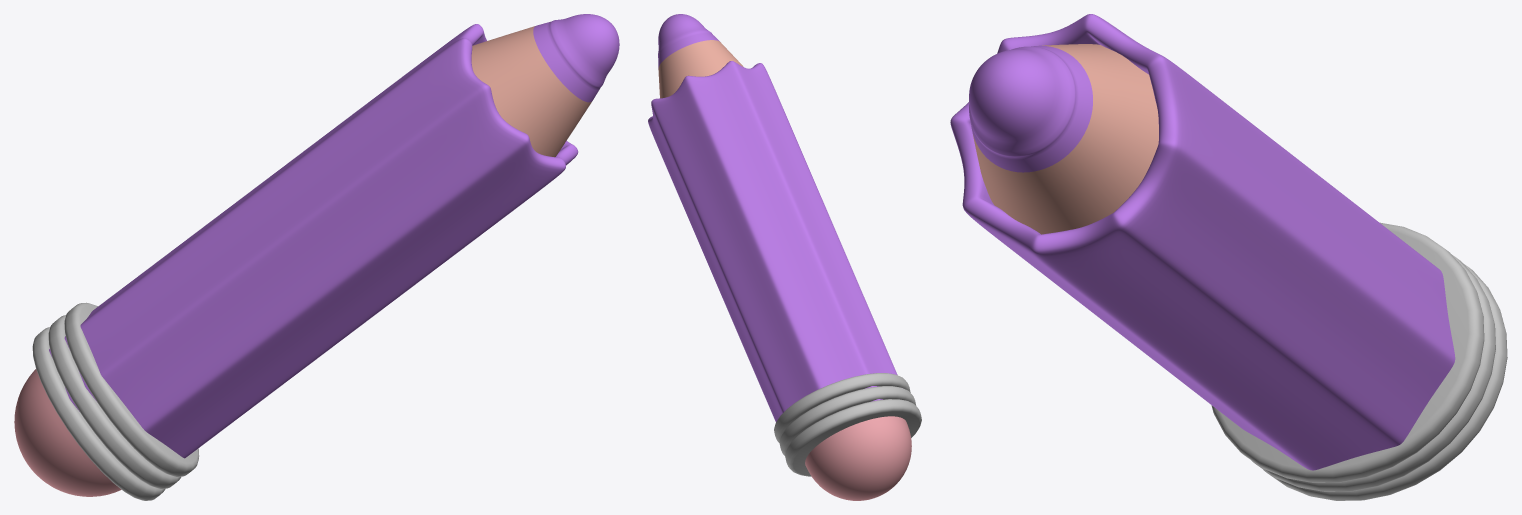
Rendered from pencil.glb.
The picture shows the model from 3 angles, left to right: view 1: azimuth 30°, elevation 25°; view 2: azimuth 150°, elevation 25°; view 3: azimuth 270°, elevation 25°; orthographic projection. The views are drawn at different scales.
Visible parts, largest first — view 1: Circle, Sphere, Cylinder.006, Sphere.001; view 2: Circle, Cylinder.006, Sphere.001, Sphere; view 3: Circle, Sphere, Cylinder.006.
Boxes of the visible parts, x1=… form: Circle: x1=49, y1=24, x2=578, y2=458; Sphere: x1=471, y1=14, x2=619, y2=157; Cylinder.006: x1=32, y1=302, x2=199, y2=500; Sphere.001: x1=14, y1=369, x2=121, y2=496; Circle: x1=648, y1=61, x2=897, y2=421; Cylinder.006: x1=774, y1=373, x2=921, y2=476; Sphere.001: x1=805, y1=416, x2=911, y2=500; Sphere: x1=658, y1=14, x2=743, y2=98; Circle: x1=950, y1=14, x2=1455, y2=470; Sphere: x1=969, y1=44, x2=1158, y2=234; Cylinder.006: x1=1211, y1=222, x2=1507, y2=500.
Size of the model in its own units: 5.7 by 5.61 by 4.21.
